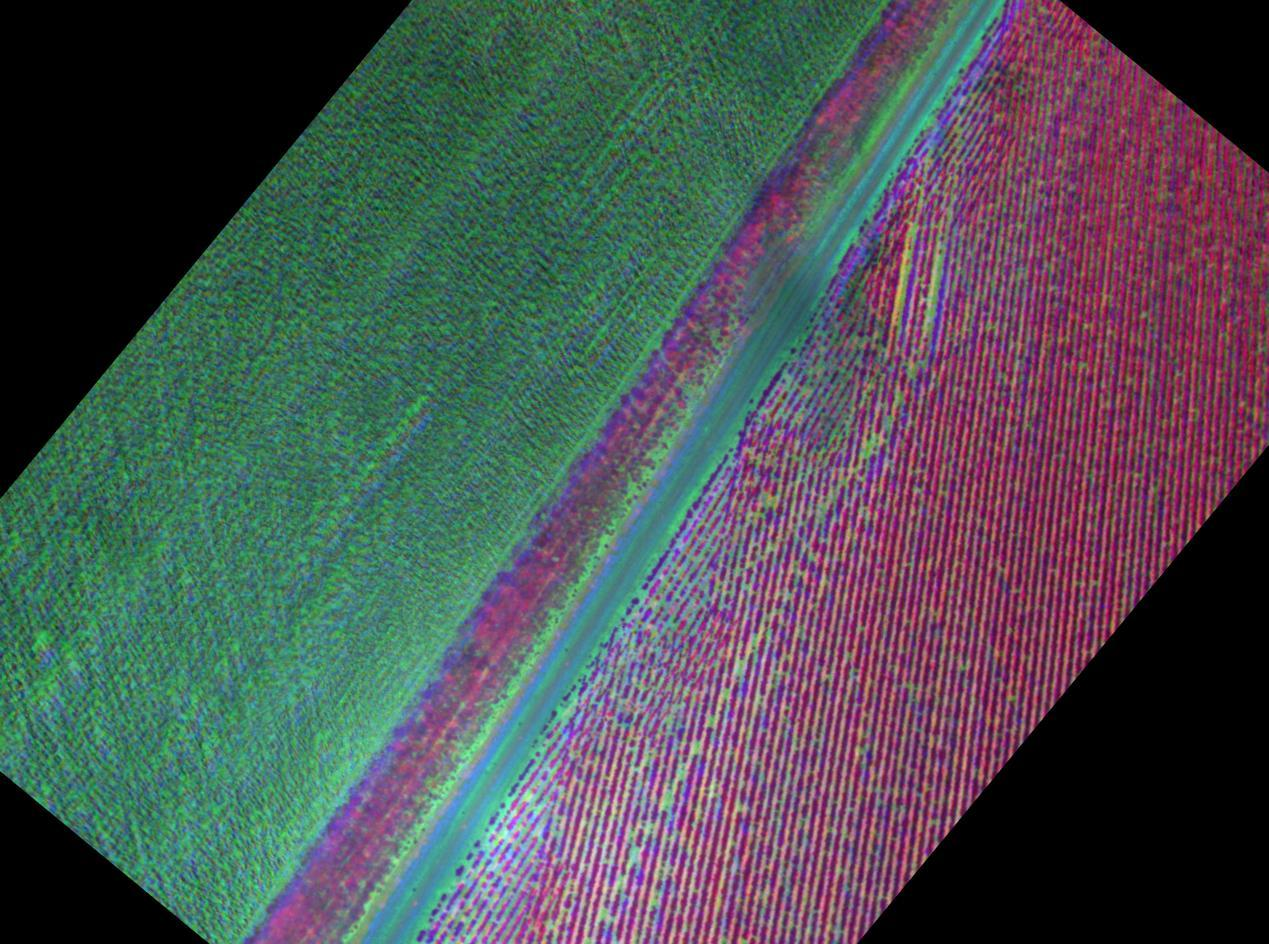dc: (930, 296, 936, 302), (906, 253, 910, 258), (795, 571, 799, 575), (771, 500, 774, 504), (909, 684, 912, 688), (676, 687, 679, 691), (870, 385, 873, 388), (723, 693, 726, 696), (870, 442, 871, 444)
